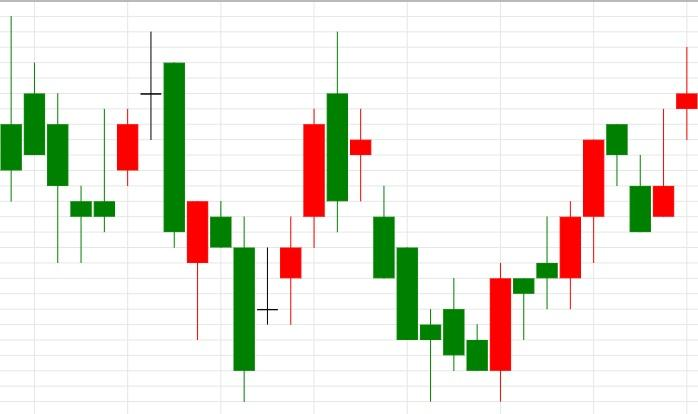bullish_engulfing_rise: (373, 186, 511, 402)
